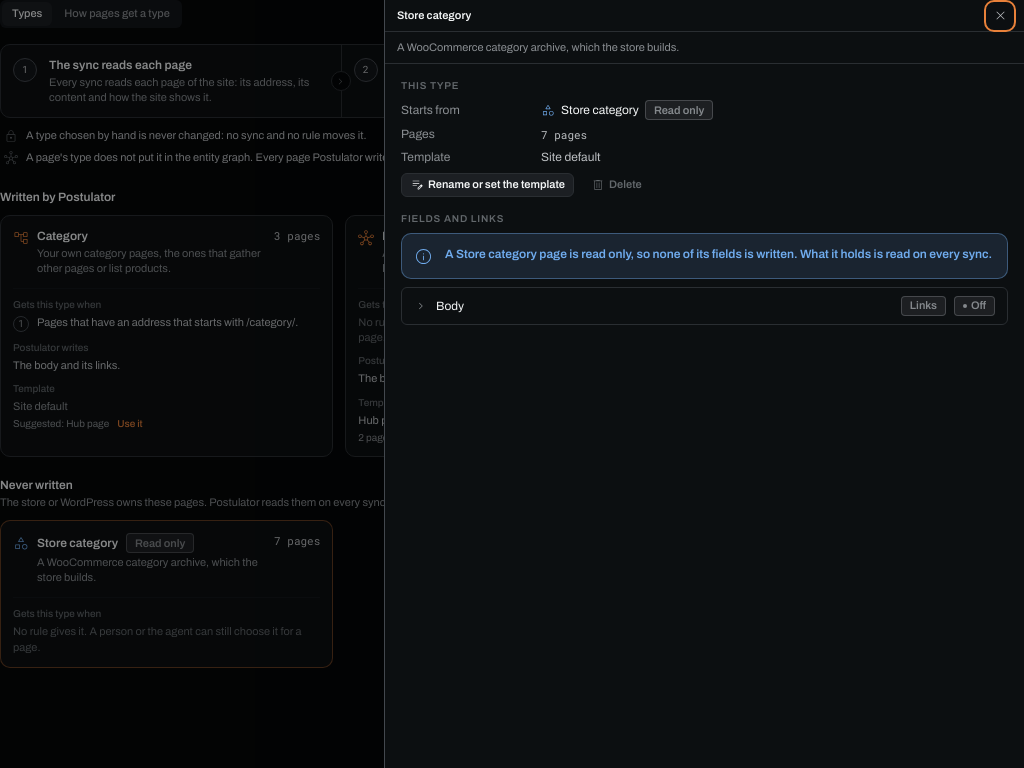
Test: Settings, Page types, a type's fields › shows a read-only type's fields read only, with nothing to save and no custom field
The image size is (1024, 768).
Click the button "Body Links Off" at (923, 306), box [402,288,1007,324]
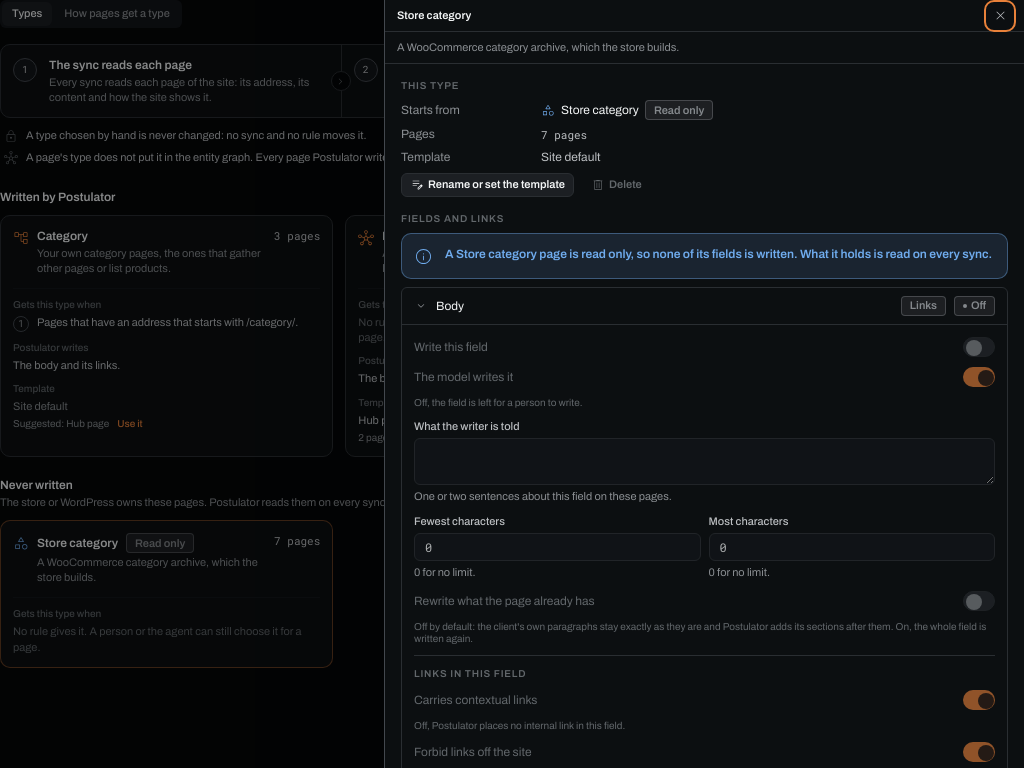
Check: the switch labelled "Write this field" is disabled, box [414,337,995,357]
